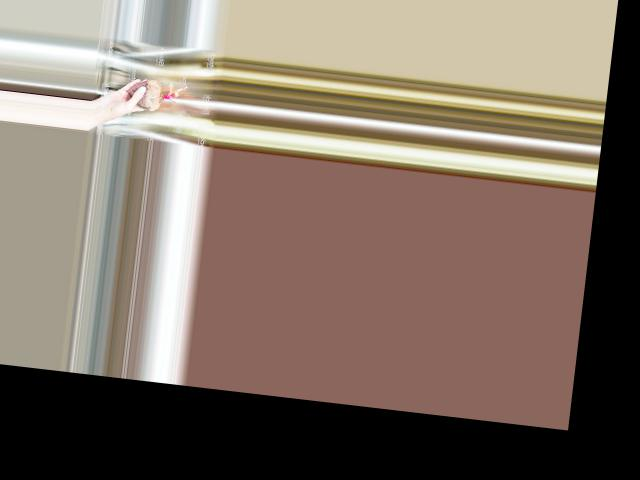beet: (126, 76, 187, 114)
